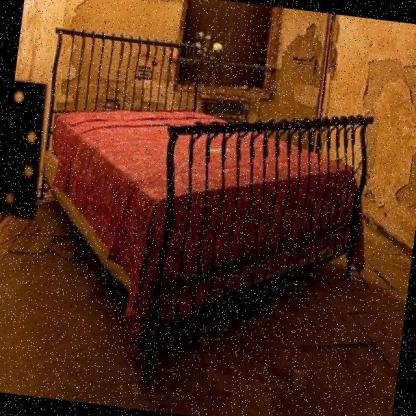Bed: (4, 15, 404, 402)
